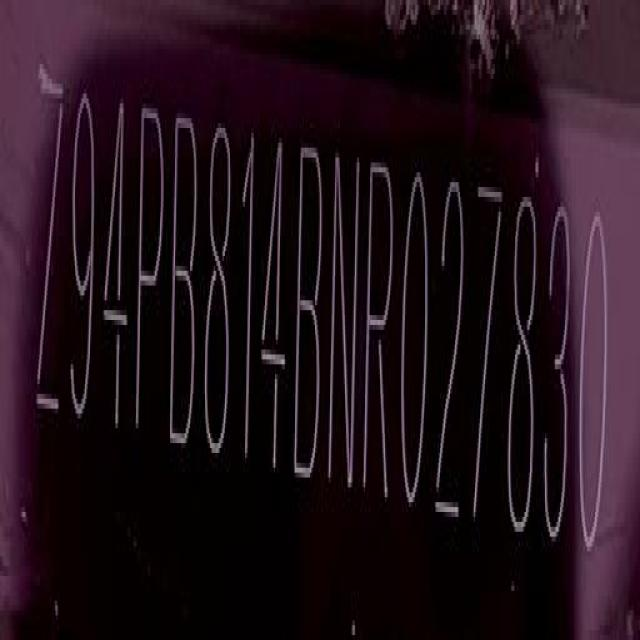0: (576, 204, 610, 556), (399, 162, 427, 507)
1: (240, 119, 260, 468)
2: (430, 178, 467, 528)
3: (543, 199, 573, 545)
4: (260, 128, 288, 478), (103, 80, 129, 434)
7: (470, 173, 504, 518)
8: (202, 131, 236, 476), (510, 177, 540, 541)
9: (68, 75, 96, 423)
B: (166, 89, 199, 447), (295, 131, 324, 487)
N: (328, 144, 362, 490)
P: (133, 95, 165, 434)
R: (363, 150, 393, 496)
Z: (33, 58, 67, 436)
